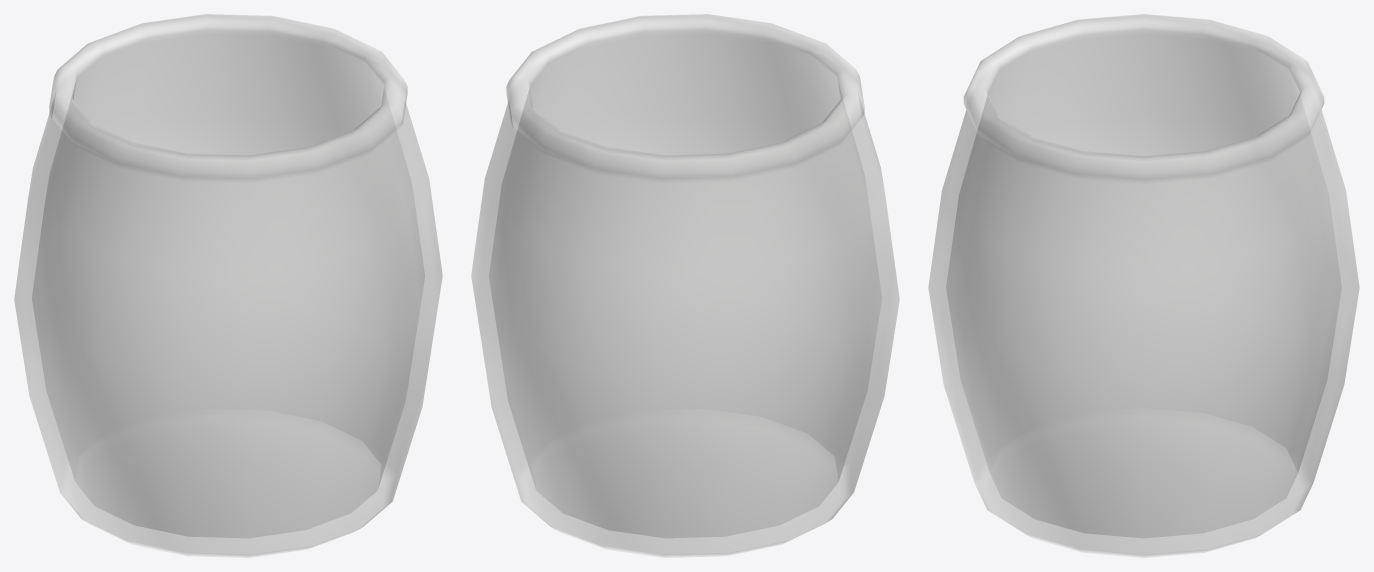
The model's file is Vase_3.fbx.
3 renders of one model, left to right at view 1: azimuth 30°, elevation 25°; view 2: azimuth 150°, elevation 25°; view 3: azimuth 270°, elevation 25°, orthographic.
Parts seen in each view (by area): view 1: Vase_3; view 2: Vase_3; view 3: Vase_3.
Part boxes in pixels (box(x1,y1,x2,y2)): Vase_3: box(14, 14, 442, 557); Vase_3: box(471, 14, 899, 557); Vase_3: box(928, 14, 1359, 557).
Bounding box in the file's own units: 12.38 × 12.81 × 12.38.
